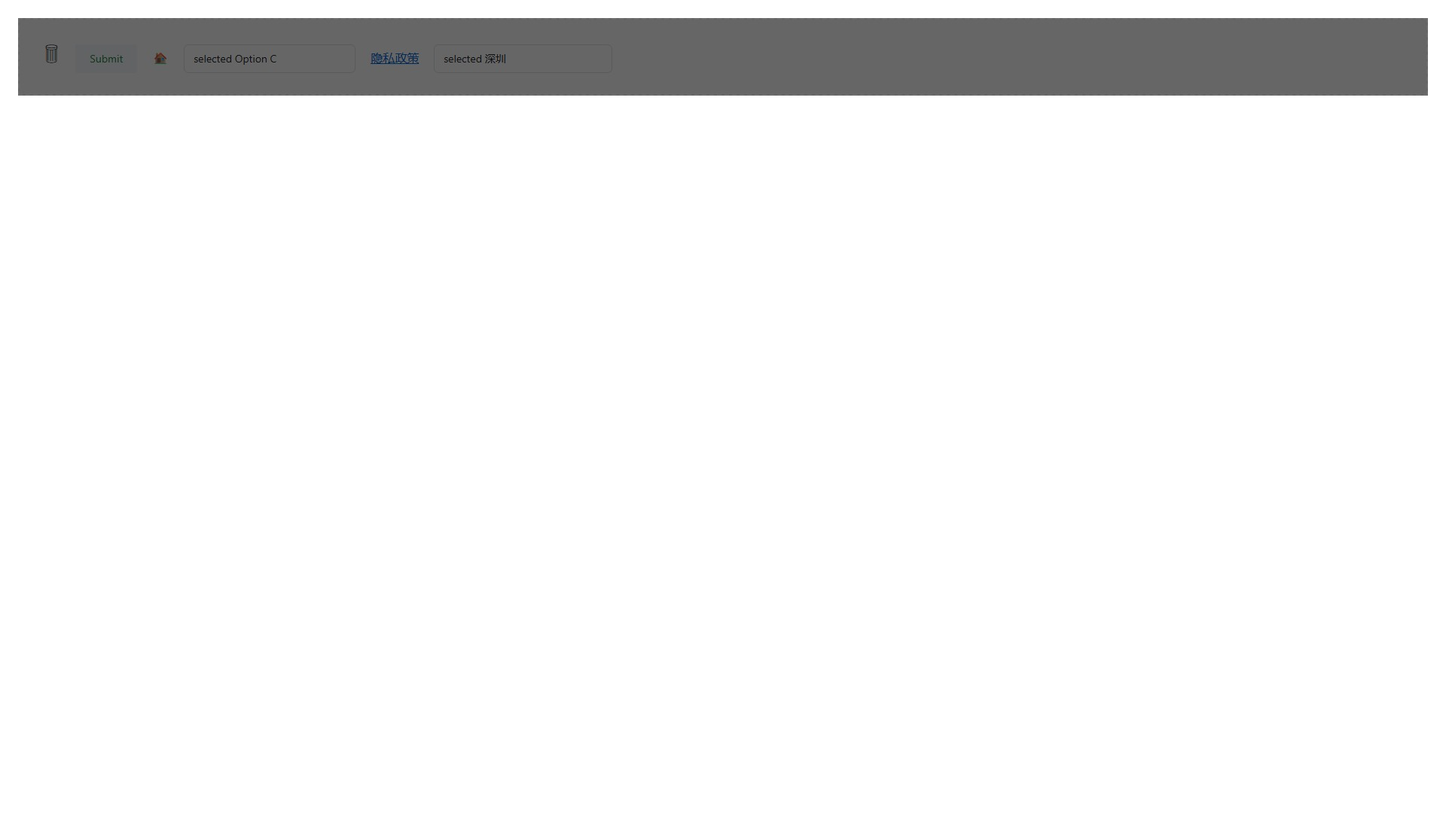button: (76, 44, 137, 73)
icon: (44, 41, 61, 65), (152, 52, 169, 64)
link: (371, 50, 419, 65)
modal: (18, 18, 1428, 96)
select: (434, 44, 612, 73), (184, 44, 356, 73)
